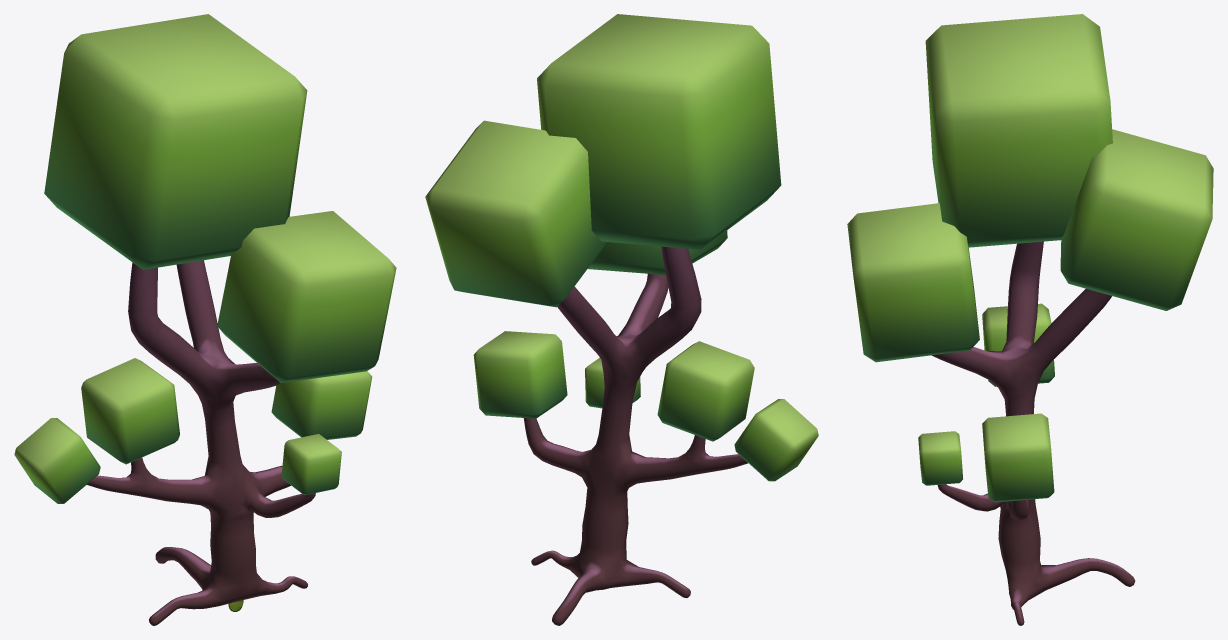
Rendered from Tree.fbx.
3 renders of one model, left to right at view 1: azimuth 30°, elevation 25°; view 2: azimuth 150°, elevation 25°; view 3: azimuth 270°, elevation 25°, orthographic. The views are drawn at different scales.
Parts seen in each view (by area): view 1: TreeBark_03_Clean; view 2: TreeBark_03_Clean; view 3: TreeBark_03_Clean.
Boxes of the visible parts, left/top/right/bottom form: TreeBark_03_Clean: left=14, top=14, right=396, bottom=625; TreeBark_03_Clean: left=425, top=14, right=818, bottom=625; TreeBark_03_Clean: left=847, top=14, right=1213, bottom=625.
Bounding box in the file's own units: 233 × 390 × 243.
Materials: 2 (2 with a texture image).
